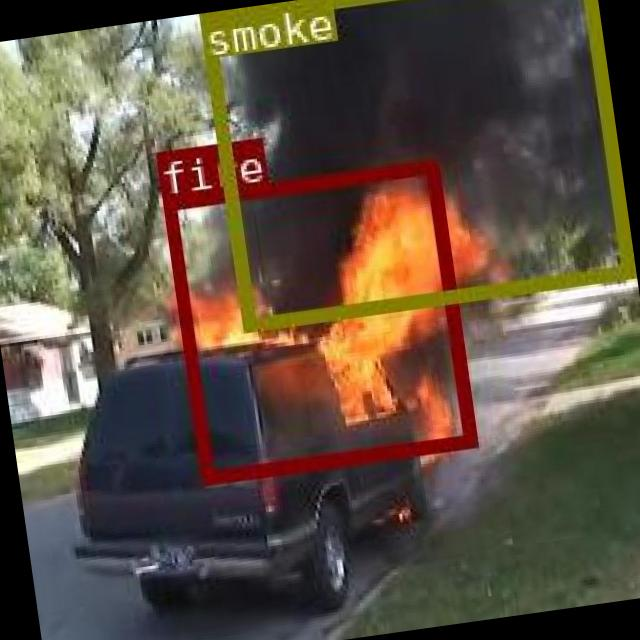fire: (160, 158, 474, 484)
smoke: (196, 0, 630, 328)
